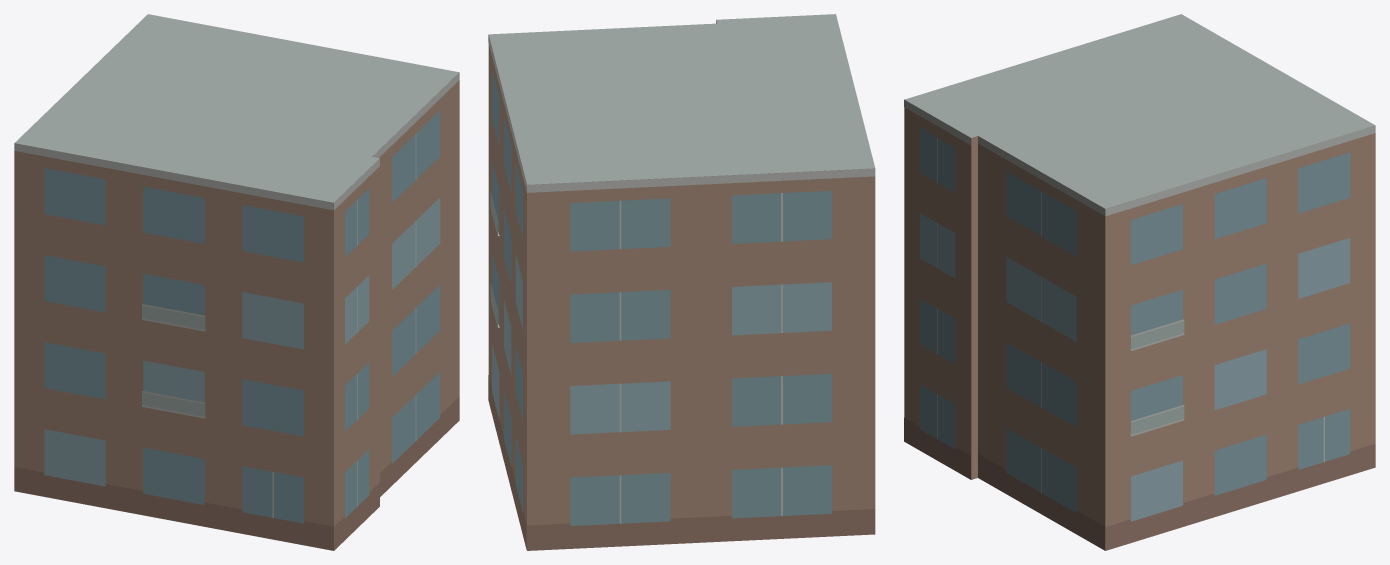
The model's file is survey-upis-32657356.glb.
The picture shows the model from 3 angles, left to right: view 1: azimuth 30°, elevation 25°; view 2: azimuth 150°, elevation 25°; view 3: azimuth 270°, elevation 25°; orthographic projection. The views are drawn at different scales.
Parts seen in each view (by area): view 1: survey-upis-32657356.tmp; view 2: survey-upis-32657356.tmp; view 3: survey-upis-32657356.tmp.
Part boxes in pixels (x1=…): survey-upis-32657356.tmp: x1=14, y1=14, x2=459, y2=550; survey-upis-32657356.tmp: x1=488, y1=14, x2=875, y2=550; survey-upis-32657356.tmp: x1=904, y1=14, x2=1375, y2=550.
Size of the model in its own units: 13.57 by 11.1 by 13.88.
